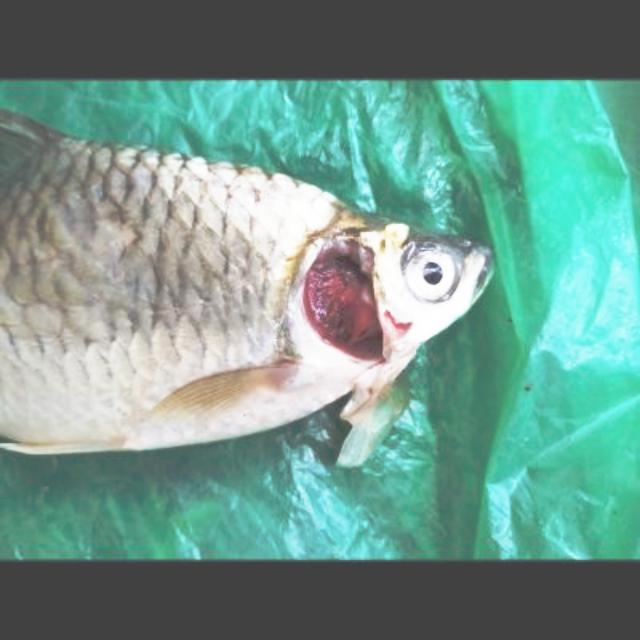Flavobacterium -Bacterial Gill Disease-: (0, 110, 496, 474), (0, 112, 491, 464)
